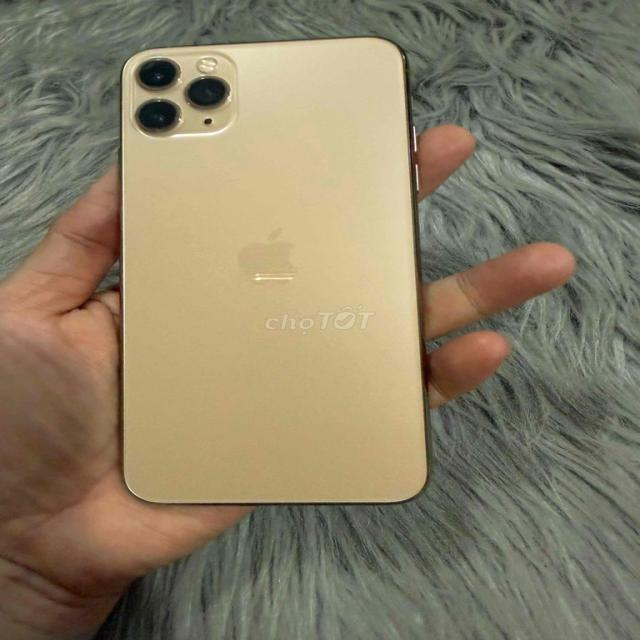gen_11: (110, 29, 460, 518)
